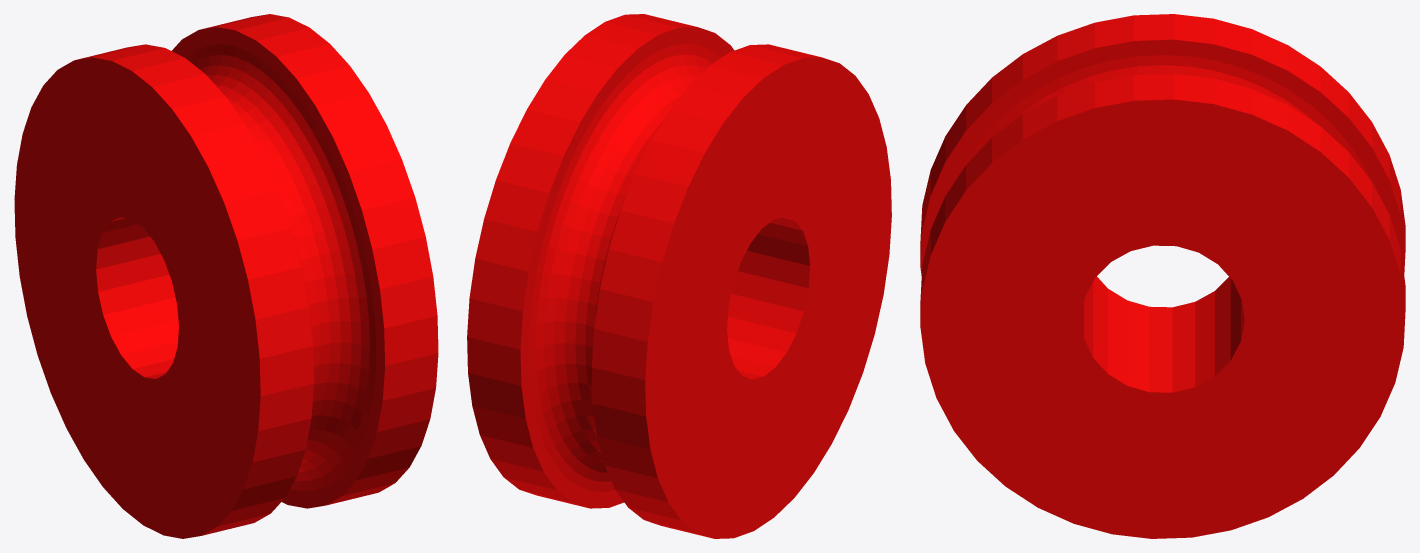
File: power_cart_wl3_visuals_wl3_mesh.obj
3 renders of one model, left to right at view 1: azimuth 30°, elevation 25°; view 2: azimuth 150°, elevation 25°; view 3: azimuth 270°, elevation 25°, orthographic.
Size of the model in its own units: 0.5 by 1.2 by 1.2.
